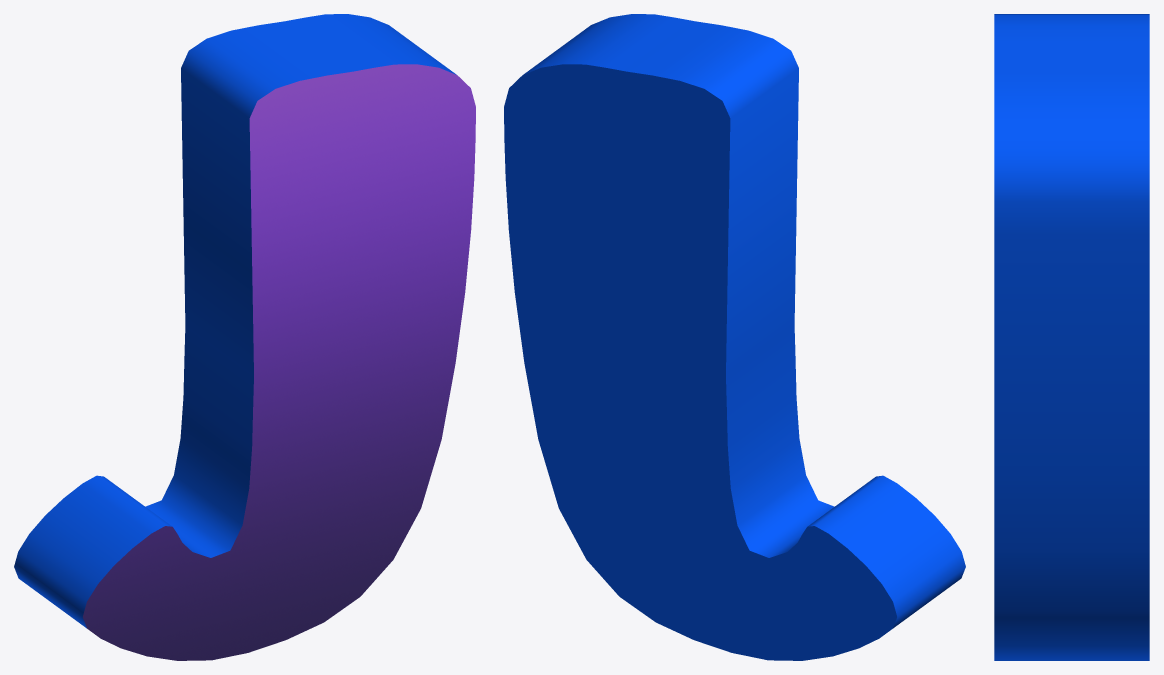
The picture shows the model from 3 angles, left to right: view 1: azimuth 30°, elevation 25°; view 2: azimuth 150°, elevation 25°; view 3: azimuth 270°, elevation 25°; orthographic projection. The views are drawn at different scales.
Parts seen in each view (by area): view 1: J; view 2: J; view 3: J.
Boxes of the visible parts, x1=… form: J: x1=14, y1=14, x2=475, y2=660; J: x1=504, y1=14, x2=965, y2=660; J: x1=994, y1=14, x2=1149, y2=660.
Size of the model in its own units: 66.12 by 89.88 by 20.
Materials: 2 (1 with a texture image).
